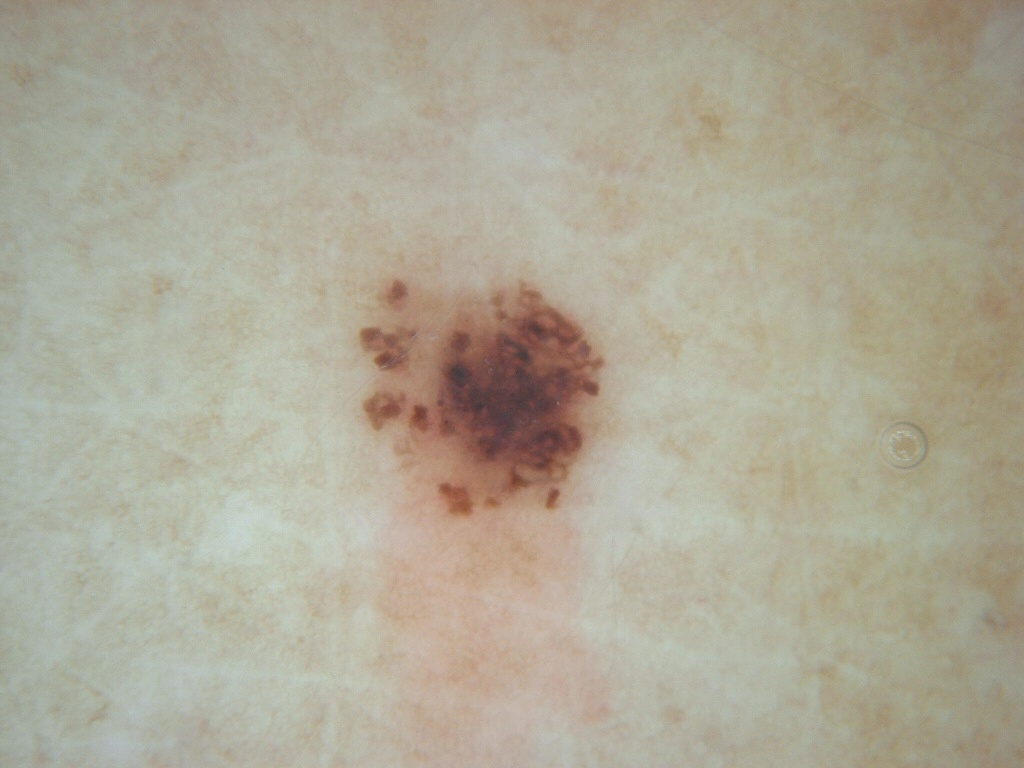Detected Lesion: (352, 267, 611, 532)
